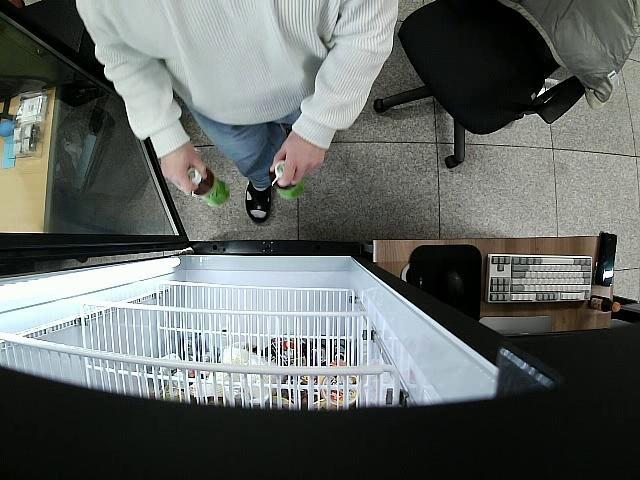19_17cha: (187, 167, 230, 208), (272, 160, 304, 202)
